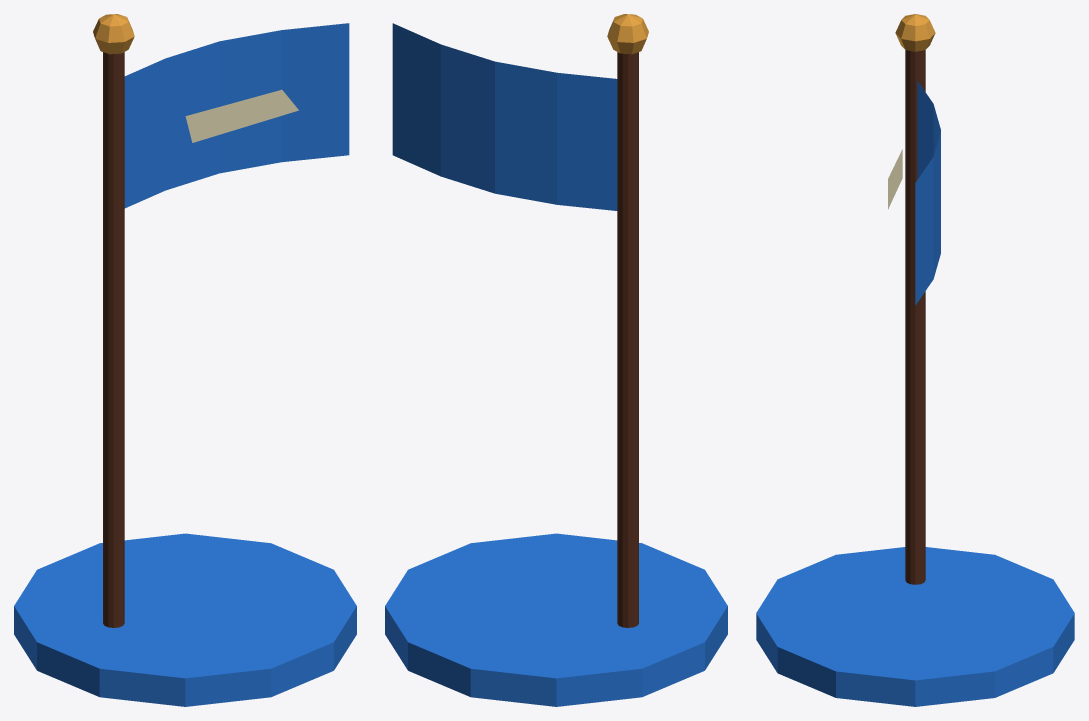
The model's file is flag_start.glb.
3 views of the same model, side by side, from view 1: azimuth 30°, elevation 25°; view 2: azimuth 150°, elevation 25°; view 3: azimuth 270°, elevation 25° (orthographic). The views are drawn at different scales.
Visible parts, largest first — view 1: flag_start_Surface; view 2: flag_start_Surface; view 3: flag_start_Surface.
Part boxes in pixels (x1=…): flag_start_Surface: x1=14, y1=14, x2=356, y2=706; flag_start_Surface: x1=385, y1=14, x2=727, y2=706; flag_start_Surface: x1=756, y1=14, x2=1074, y2=706.
Bounding box in the file's own units: 0.915 × 1.79 × 0.87.
1 material, 1 textured.
